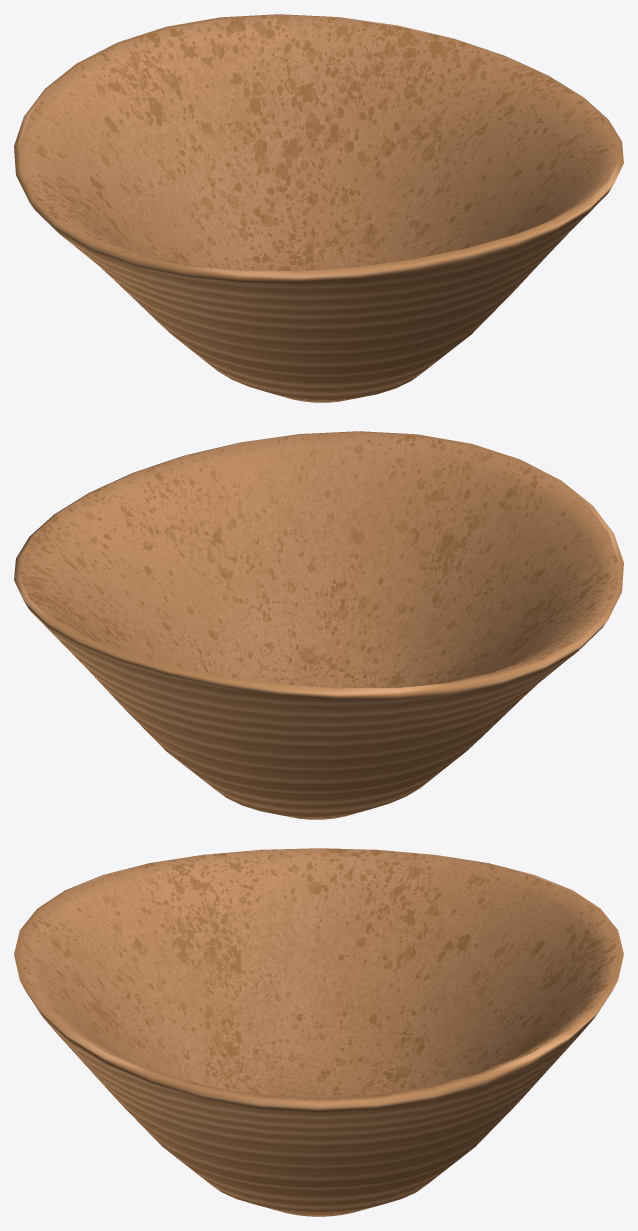
Rendered from Bowl.FBX.
3 renders of one model, top to bottom at view 1: azimuth 30°, elevation 25°; view 2: azimuth 150°, elevation 25°; view 3: azimuth 270°, elevation 25°, orthographic.
Visible parts, largest first — view 1: Sphere001; view 2: Sphere001; view 3: Sphere001.
Boxes of the visible parts, box(x1,y1,x2,y2) form: Sphere001: box(14, 14, 623, 402); Sphere001: box(14, 431, 623, 819); Sphere001: box(14, 848, 623, 1216).
Bounding box in the file's own units: 39.89 × 17.28 × 39.89.
2 materials, 2 textured.
